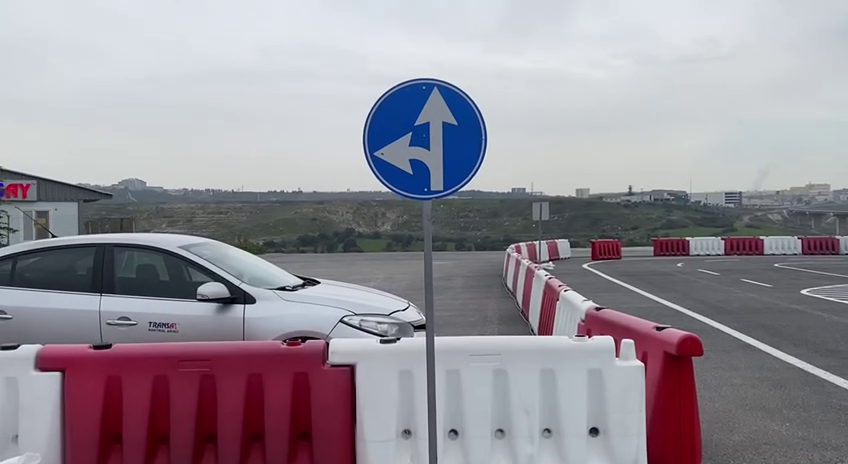forwardAndLeft: (360, 75, 489, 202)
